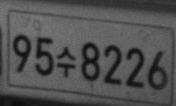2: (103, 44, 122, 85), (125, 47, 144, 88)
5: (34, 37, 54, 76)
6: (147, 51, 167, 91)
8: (80, 41, 101, 82)
9: (12, 34, 32, 73)
수: (56, 45, 75, 78)
